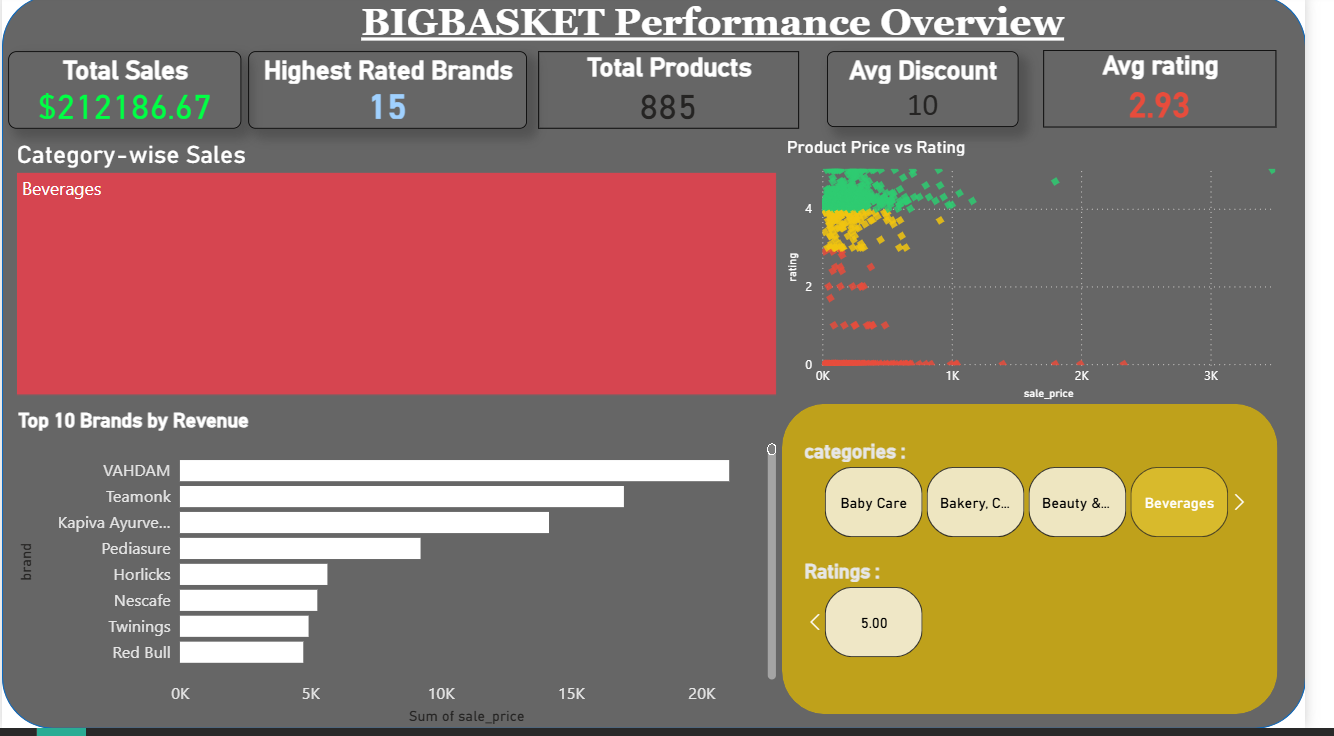

This screenshot's page, from the dashboard's own definition file:
{"tool":"powerbi","page":{"name":"Page 1","canvas":[1280,720],"ordinal":0},"visuals":[{"type":"shape","box":[0,0,1280,720.3],"z":0},{"type":"shape","box":[765,401.8,486.4,304.8],"z":1000},{"type":"textbox","box":[202.8,0,990.2,74.6],"z":2000},{"type":"card","title":"Total Sales","fields":{"Values":["BigBasket Products.Measure"]},"box":[6.2,54.7,228.9,75.9],"z":3000},{"type":"card","title":"Avg rating","fields":{"Values":["BigBasket Products.reating"]},"box":[1022.5,53.5,228.9,75.9],"z":4000},{"type":"card","title":"Highest Rated Brands","fields":{"Values":["BigBasket Products.highest_rated"]},"box":[241.3,54.7,273.7,75.9],"z":5000},{"type":"card","title":"Avg Discount","fields":{"Values":["BigBasket Products.avgdis"]},"box":[809.8,54.7,187.8,74.6],"z":6000},{"type":"card","title":"Total Products","fields":{"Values":["BigBasket Products.total product1"]},"box":[526.2,54.7,256.3,75.9],"z":7000},{"type":"treemap","title":"Category-wise Sales","fields":{"Group":["BigBasket Products.category"],"Values":["Sum(BigBasket Products.sale_price)"]},"box":[10,141.8,755.1,255],"z":8000},{"type":"clusteredBarChart","title":"Top 10 Brands by Revenue","fields":{"Category":["BigBasket Products.brand"],"Y":["Sum(BigBasket Products.sale_price)"]},"box":[11.2,405.5,753.8,314.7],"z":9000},{"type":"scatterChart","title":" Product Price vs Rating","fields":{"X":["BigBasket Products.sale_price"],"Y":["BigBasket Products.rating"]},"box":[765,138.1,496.3,263.7],"z":10000},{"type":"advancedSlicerVisual","title":"categories :","fields":{"Values":["BigBasket Products (2).category"]},"box":[782.5,436.6,447.8,100.8],"z":11000},{"type":"advancedSlicerVisual","title":"Ratings :","fields":{"Values":["BigBasket Products.rating"]},"box":[782.5,554.8,447.8,100.8],"z":12001}]}

Visuals, with their boxes in screenshot pixels (x1, y1, x2, y2), scaled from the page's 1280x720 canvas onto the 1334x736 screenshot:
shape: detection(0, 0, 1333, 735)
shape: detection(797, 411, 1304, 722)
textbox: detection(211, 0, 1243, 76)
"Total Sales" card: detection(6, 56, 245, 134)
"Avg rating" card: detection(1066, 55, 1304, 132)
"Highest Rated Brands" card: detection(251, 56, 537, 134)
"Avg Discount" card: detection(844, 56, 1040, 132)
"Total Products" card: detection(548, 56, 816, 134)
"Category-wise Sales" treemap: detection(10, 145, 797, 406)
"Top 10 Brands by Revenue" clusteredBarChart: detection(12, 415, 797, 735)
" Product Price vs Rating" scatterChart: detection(797, 141, 1315, 411)
"categories :" advancedSlicerVisual: detection(816, 446, 1282, 549)
"Ratings :" advancedSlicerVisual: detection(816, 567, 1282, 670)
